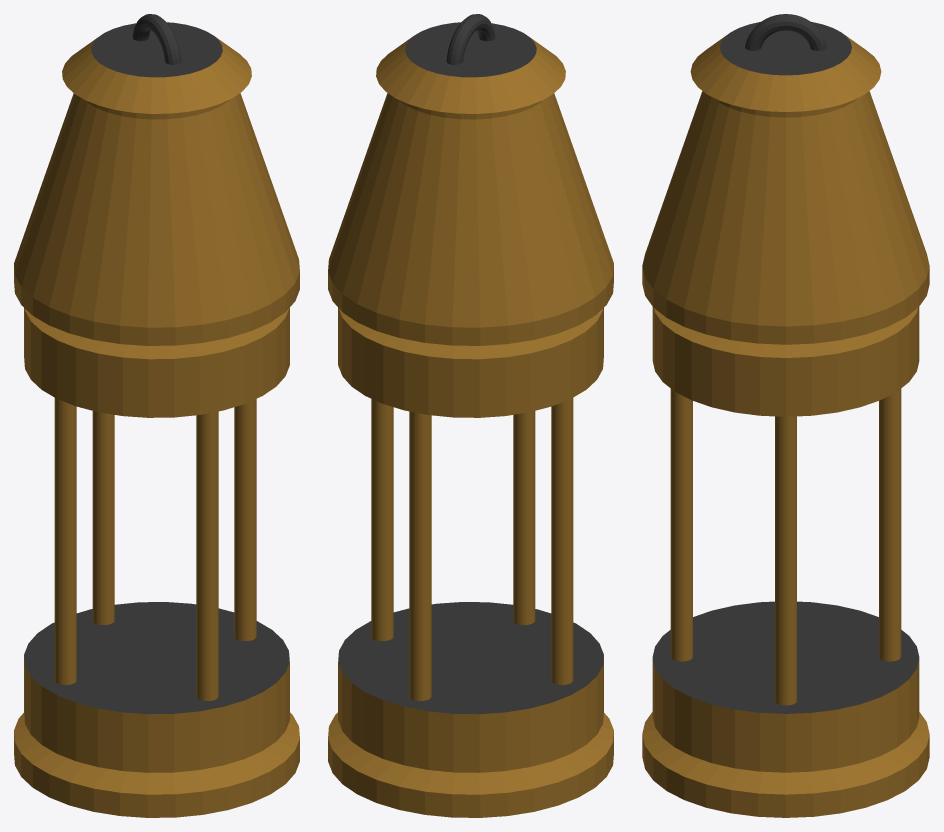
The model's file is lampara.fbx.
3 renders of one model, left to right at view 1: azimuth 30°, elevation 25°; view 2: azimuth 150°, elevation 25°; view 3: azimuth 270°, elevation 25°, orthographic.
Visible parts, largest first — view 1: lampara; view 2: lampara; view 3: lampara.
Boxes of the visible parts, x1,y1,x2,y2 form: lampara: [14, 14, 299, 817]; lampara: [328, 14, 613, 817]; lampara: [642, 14, 929, 817].
Bounding box in the file's own units: 102 × 291 × 102.
